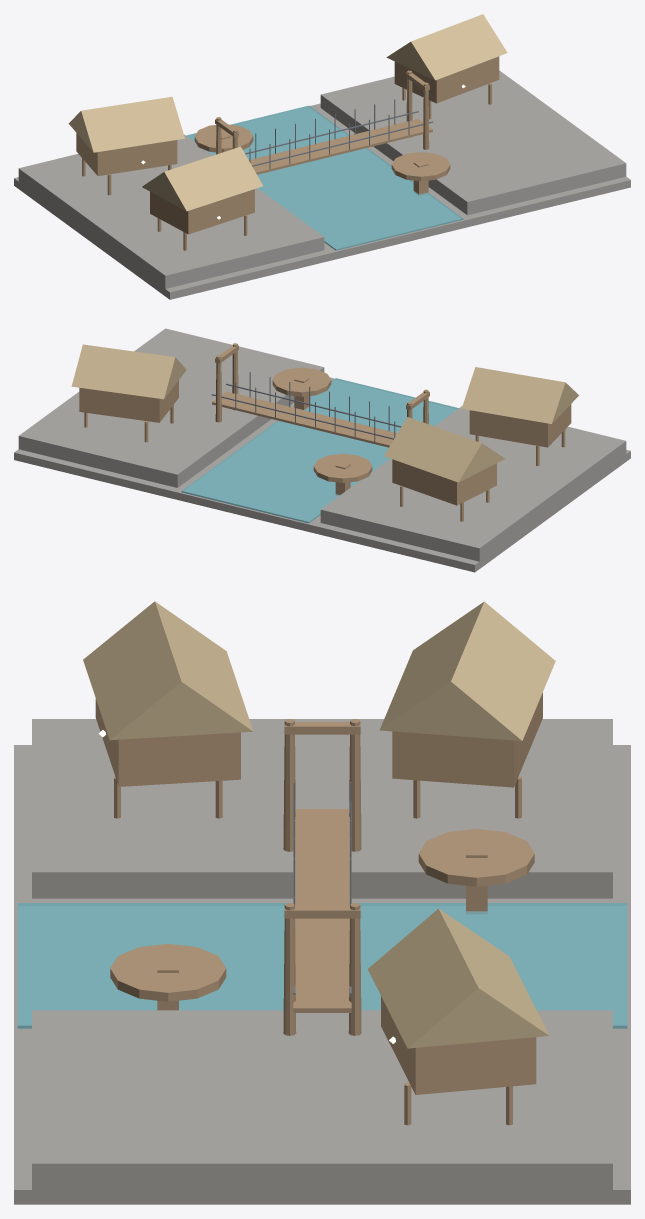
File: lm_52_lang_cu_lan_suoi_can_watermill_and_suspension_bridge_kit.glb
3 renders of one model, top to bottom at view 1: azimuth 30°, elevation 25°; view 2: azimuth 150°, elevation 25°; view 3: azimuth 270°, elevation 25°, orthographic. The views are drawn at different scales.
Parts seen in each view (by area): view 1: lm_52_lang_cu_lan_suoi_can_watermill_and_suspension_bridge_k; view 2: lm_52_lang_cu_lan_suoi_can_watermill_and_suspension_bridge_k; view 3: lm_52_lang_cu_lan_suoi_can_watermill_and_suspension_bridge_k.
Boxes of the visible parts, left/top/right/bottom form: lm_52_lang_cu_lan_suoi_can_watermill_and_suspension_bridge_k: left=14, top=14, right=630, bottom=299; lm_52_lang_cu_lan_suoi_can_watermill_and_suspension_bridge_k: left=14, top=328, right=630, bottom=572; lm_52_lang_cu_lan_suoi_can_watermill_and_suspension_bridge_k: left=14, top=601, right=630, bottom=1204.
Bounding box in the file's own units: 58 × 11.4 × 34.
